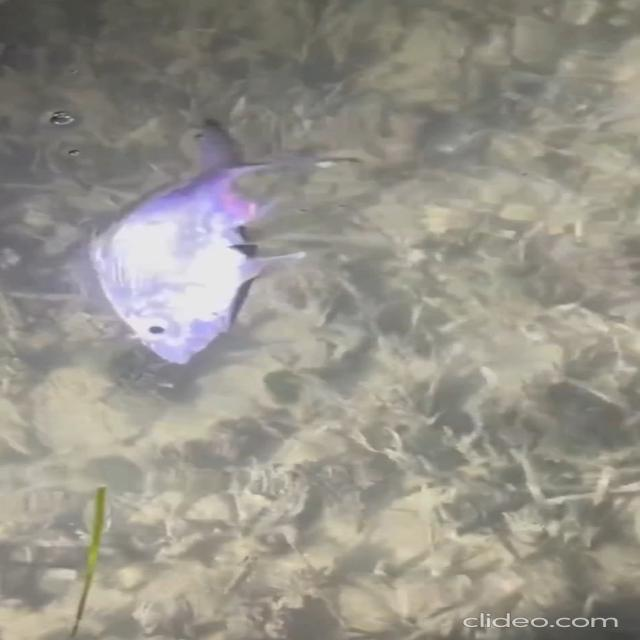fish: (81, 117, 332, 369)
